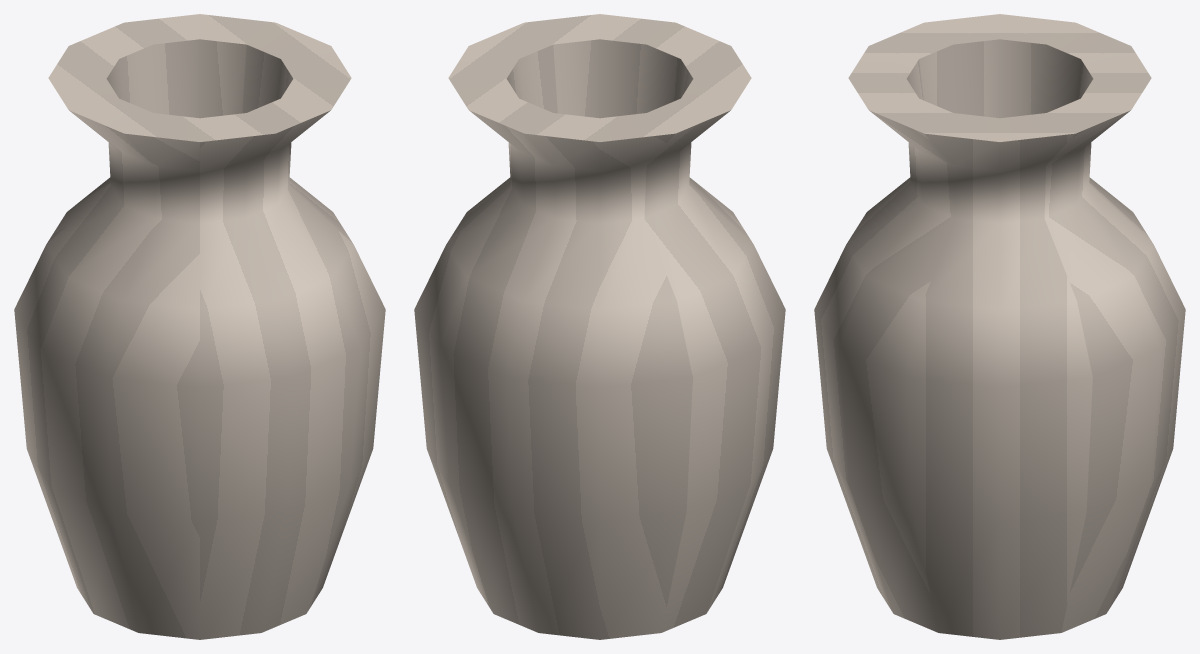
The model's file is Des_Vase.fbx.
3 views of the same model, side by side, from view 1: azimuth 30°, elevation 25°; view 2: azimuth 150°, elevation 25°; view 3: azimuth 270°, elevation 25° (orthographic).
Visible parts, largest first — view 1: pCylinder16; view 2: pCylinder16; view 3: pCylinder16.
Boxes of the visible parts, x1=… form: pCylinder16: x1=14, y1=14, x2=385, y2=639; pCylinder16: x1=414, y1=14, x2=785, y2=639; pCylinder16: x1=814, y1=14, x2=1185, y2=639.
Bounding box in the file's own units: 0.3024 × 0.458 × 0.3024.
